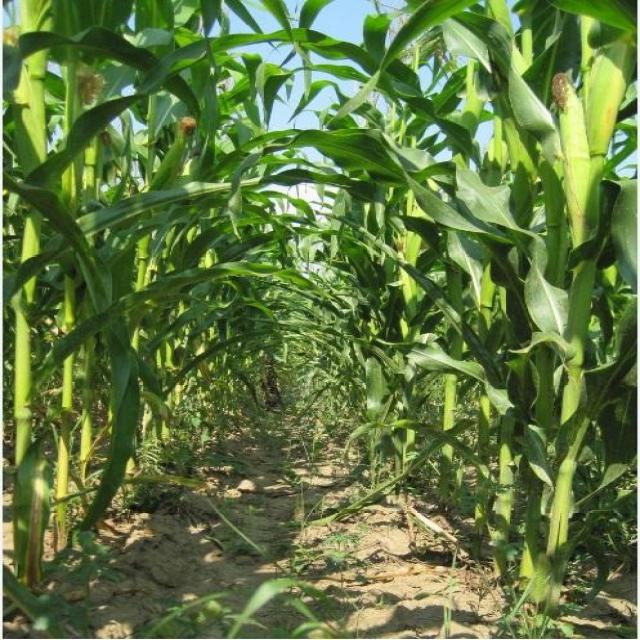row: (32, 404, 549, 640)
